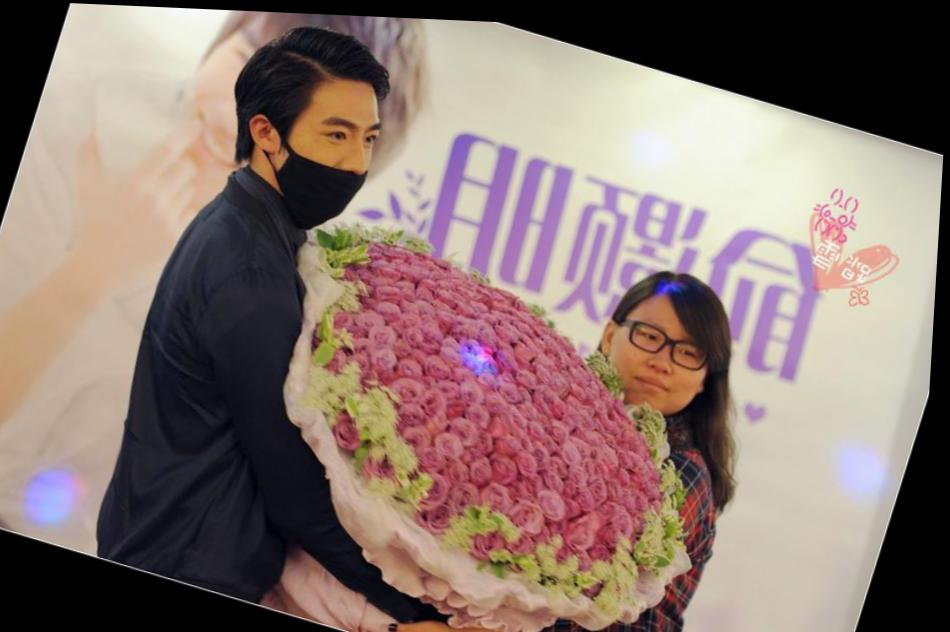NONE: (602, 301, 721, 415)
WRONG: (246, 85, 391, 235)
